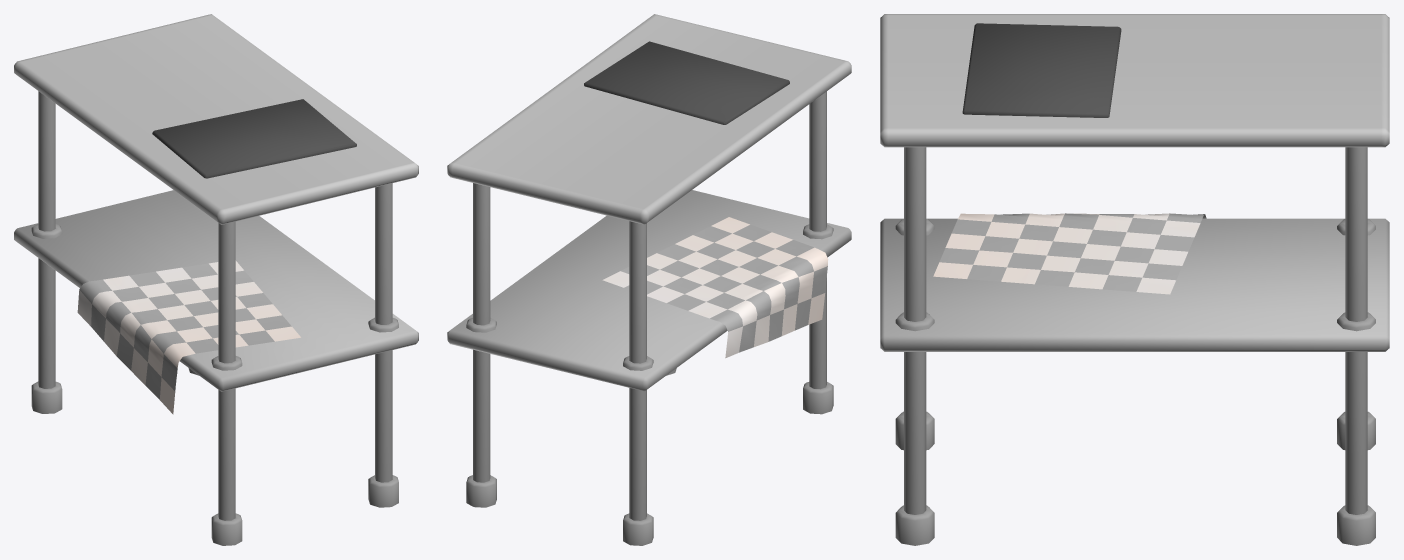
The model's file is white_bottom.glb.
The picture shows the model from 3 angles, left to right: view 1: azimuth 30°, elevation 25°; view 2: azimuth 150°, elevation 25°; view 3: azimuth 270°, elevation 25°; orthographic projection. The views are drawn at different scales.
Visible parts, largest first — view 1: Cylinder.016; view 2: Cylinder.016; view 3: Cylinder.016.
Part boxes in pixels (x1=…): Cylinder.016: x1=14, y1=14, x2=418, y2=545; Cylinder.016: x1=447, y1=14, x2=851, y2=545; Cylinder.016: x1=880, y1=14, x2=1389, y2=545.
Size of the model in its own units: 1.34 by 2.11 by 2.3.
1 material, 1 textured.
